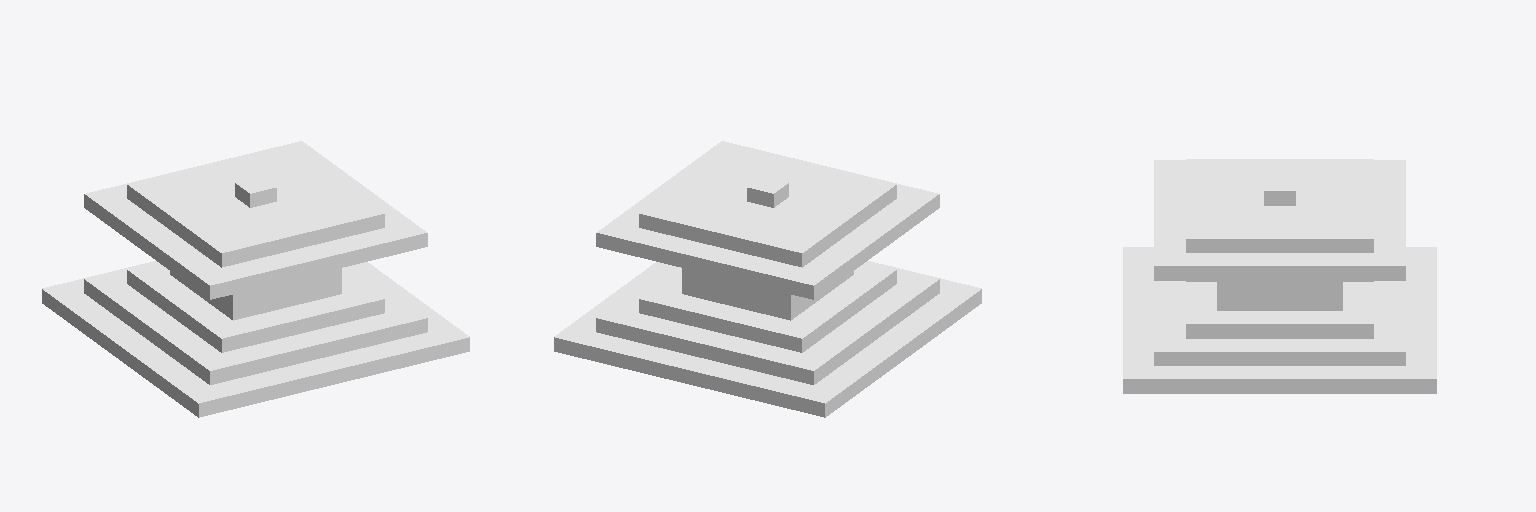
The model's file is GreenEnemyBase.obj.
The picture shows the model from 3 angles: view 1: azimuth 30°, elevation 25°; view 2: azimuth 150°, elevation 25°; view 3: azimuth 270°, elevation 25°; orthographic projection.
Bounding box in the file's own units: 20 × 10 × 20.